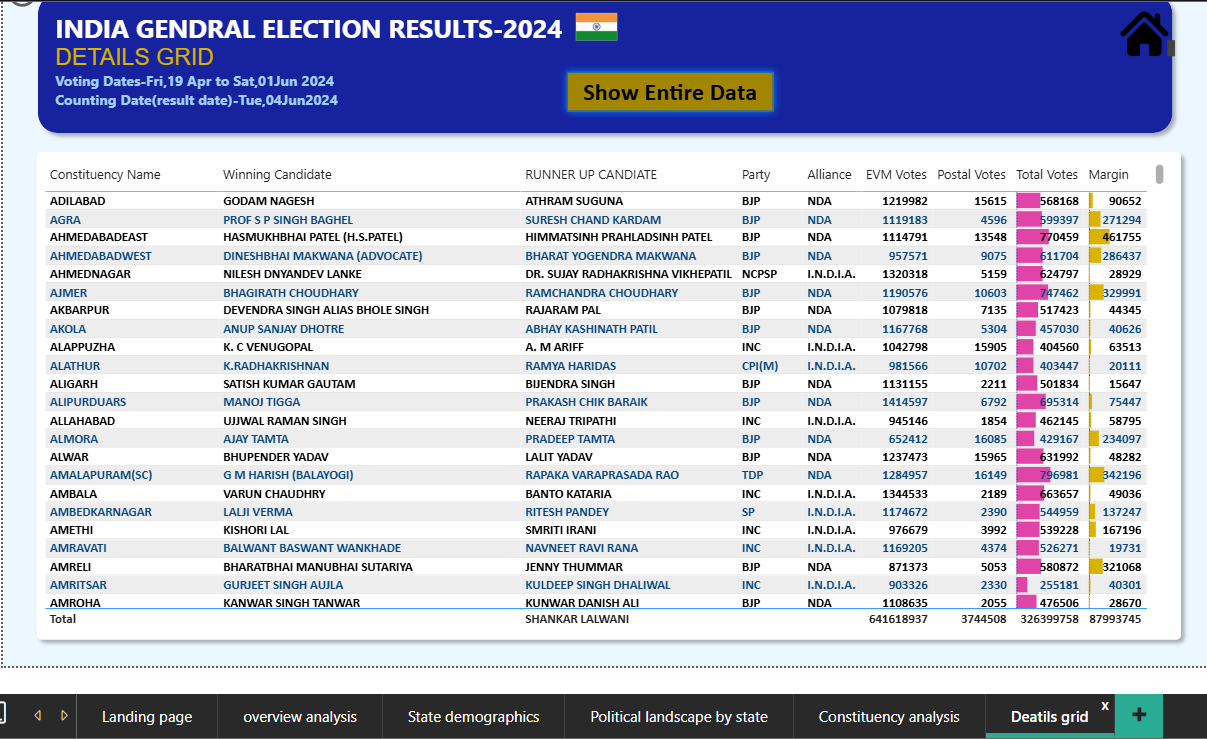

Layout of this report page (visuals, bound fields, positions):
{"tool":"powerbi","page":{"name":"Deatils grid","canvas":[1250,720],"ordinal":5},"visuals":[{"type":"shape","box":[26.8,13.4,1196.7,162.1],"z":0},{"type":"textbox","box":[59,64.3,1164.5,30.8],"z":1000},{"type":"actionButton","box":[0,0,100,40],"z":2000},{"type":"textbox","box":[49.6,33.5,758.5,123.3],"z":3000},{"type":"image","box":[588.3,33.5,56.3,44.2],"z":4000},{"type":"shape","box":[26.4,176.4,1206.9,525],"z":5000},{"type":"tableEx","fields":{"Values":["constituencywise_results.Constituency Name","constituencywise_results.Winning Candidate","measure_table.RUNNER UP CANDIATE","constituencywise_results.party_short","constituencywise_results.Party_Alliance (result)","Sum(constituencywise_details.EVM Votes)","Sum(constituencywise_details.Postal Votes)","Sum(constituencywise_results.Total Votes)","Sum(constituencywise_results.Margin)"]},"box":[37.5,193.8,1173.4,490.6],"z":6000},{"type":"shape","box":[577.8,94.4,230.6,56.9],"z":7000}]}

Visuals, with their boxes on the page's 1250x720 design canvas (x1, y1, x2, y2). These are canvas units, not pixel positions in the 1207x739 screenshot, which may show the page scaled, cropped or inside an application window:
shape: left=27, top=13, right=1224, bottom=176
textbox: left=59, top=64, right=1224, bottom=95
actionButton: left=0, top=0, right=100, bottom=40
textbox: left=50, top=34, right=808, bottom=157
image: left=588, top=34, right=645, bottom=78
shape: left=26, top=176, right=1233, bottom=701
tableEx - constituencywise_results.Constituency Name x constituencywise_results.Winning Candidate: left=38, top=194, right=1211, bottom=684
shape: left=578, top=94, right=808, bottom=151
